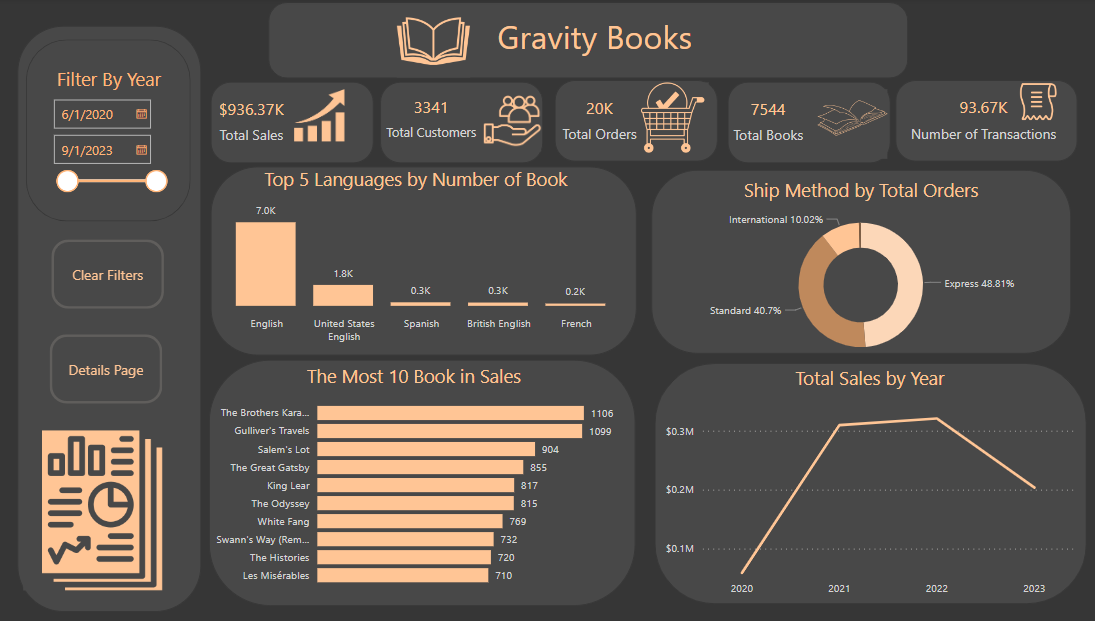

What the dashboard file says about the page in this screenshot:
{"tool":"powerbi","page":{"name":"Main","canvas":[1280,720],"ordinal":0},"visuals":[{"type":"shape","box":[318,6,738,88],"z":0},{"type":"shape","box":[30,34,212,676],"z":0,"group":"g18"},{"type":"shape","box":[40,50,190,210],"z":0,"group":"g8"},{"type":"group","id":"g1","title":"Group 1","box":[648.9,95.5,188,94],"z":0,"group":"g13"},{"type":"shape","box":[648.9,95.5,188,94],"z":0,"group":"g1"},{"type":"group","id":"g2","title":"Group 1","box":[1042,96,210,94],"z":0,"group":"g15"},{"type":"shape","box":[1042,96,210,94],"z":0,"group":"g2"},{"type":"group","id":"g3","title":"Group 2","box":[439.4,97.1,195.2,94],"z":0,"group":"g16"},{"type":"group","id":"g4","title":"Group 1","box":[446.6,97.1,188,94],"z":0,"group":"g3"},{"type":"shape","box":[446.6,97.1,188,94],"z":0,"group":"g4"},{"type":"group","id":"g5","title":"Group 1","box":[848.9,97.7,188,94],"z":0,"group":"g9"},{"type":"shape","box":[848.9,97.7,188,94],"z":0,"group":"g5"},{"type":"group","id":"g6","title":"Group 1","box":[252,98,188,94],"z":0,"group":"g11"},{"type":"shape","box":[252,98,188,94],"z":0,"group":"g6"},{"type":"shape","box":[252.1,196,491.4,218],"z":0,"group":"g12"},{"type":"shape","box":[760,200,484,212],"z":0,"group":"g14"},{"type":"shape","box":[250,418,492,284],"z":0,"group":"g10"},{"type":"group","id":"g7","title":"Group 3","box":[764,422,498,278],"z":0,"group":"g17"},{"type":"shape","box":[764,422,498,278],"z":0,"group":"g7"},{"type":"group","id":"g8","title":"Group 1","box":[40,50,190,210],"z":1000,"group":"g18"},{"type":"slicer","title":"Filter By Year","fields":{"Values":["DimDate.Date"]},"box":[60,82,152,158],"z":1000,"group":"g8"},{"type":"group","id":"g9","title":"Group 2","box":[848.9,97.7,188,94],"z":1000},{"type":"card","fields":{"Values":["MeasuresTable.Total Customers"]},"box":[439.4,99.1,134,78],"z":1000,"group":"g3"},{"type":"card","fields":{"Values":["Count(FactSales.TransactionID_SK)"]},"box":[1054,100,180,80],"z":1000,"group":"g15"},{"type":"card","fields":{"Values":["MeasuresTable.Total Orders"]},"box":[653.1,100.4,96,78],"z":1000,"group":"g13"},{"type":"image","box":[514,106,172,76],"z":1000,"group":"g16"},{"type":"card","fields":{"Values":["MeasuresTable.Total Books"]},"box":[848.9,107.7,94,68],"z":1000,"group":"g9"},{"type":"card","fields":{"Values":["MeasuresTable.Total Sales"]},"box":[244,108,110,68],"z":1000,"group":"g11"},{"type":"clusteredColumnChart","title":"Top 5 Languages by Number of Book ","fields":{"Category":["DimBook.LangName"],"Y":["MeasuresTable.Total Books"]},"box":[226,196,524,212],"z":1000,"group":"g12"},{"type":"donutChart","title":"Ship Method by Total Orders","fields":{"Category":["FactOrder.MethodName"],"Y":["CountNonNull(FactOrder.BK_OrderID)"],"Series":["FactOrder.MehtodCost"]},"box":[770,208,464,222],"z":1000,"group":"g14"},{"type":"group","id":"g10","title":"Group 4","box":[238,418,504,284],"z":1000,"group":"g17"},{"type":"clusteredBarChart","title":"The Most 10 Book in Sales","fields":{"Category":["DimBook.Title"],"Y":["MeasuresTable.BookSummary"]},"box":[238,421.5,496,266.7],"z":1000,"group":"g10"},{"type":"lineChart","title":"Total Sales by Year","fields":{"Y":["MeasuresTable.Total Sales"],"Category":["DimDate.Year"]},"box":[771.8,423.7,480.4,276.3],"z":1000,"group":"g7"},{"type":"group","id":"g11","title":"Group 2","box":[244,98,196,94],"z":2000},{"type":"group","id":"g12","title":"Group 5","box":[226,196,524,218],"z":2000,"group":"g17"},{"type":"actionButton","title":"ButtonClear filter","box":[70,280,130,80],"z":2000,"group":"g18"},{"type":"group","id":"g13","title":"Group 2","box":[648.9,95.5,188,94],"z":3000},{"type":"group","id":"g14","title":"Group 6","box":[760,200,484,230],"z":3000,"group":"g17"},{"type":"image","box":[32,462,198,258],"z":3000,"group":"g18"},{"type":"group","id":"g15","title":"Group 2","box":[1042,96,210,94],"z":4000},{"type":"textbox","box":[344,16,692,66],"z":5000},{"type":"image","box":[836,102,312,90],"z":6000},{"type":"group","id":"g16","title":"Group 7","box":[439.4,97.1,246.6,94],"z":7000},{"type":"image","box":[672,94,226,92],"z":8000},{"type":"image","box":[318,102,118,70],"z":9000},{"type":"image","box":[346,4,326,94],"z":10000},{"type":"image","box":[1134,94,146,54],"z":11000},{"type":"group","id":"g17","title":"Group 4 Charts","box":[226,196,1036,506],"z":12000},{"type":"group","id":"g18","title":"Group right one","box":[30,34,212,686],"z":13000},{"type":"actionButton","title":"ButtonDetails Page button","box":[66,390,130,80],"z":17000}]}

Visuals, with their boxes in screenshot pixels (x1, y1, x2, y2), scaled from the page's 1280x720 canvas onto the 1095x621 screenshot:
shape: rect(272, 5, 903, 81)
shape: rect(26, 29, 207, 612)
shape: rect(34, 43, 197, 224)
"Group 1" group: rect(555, 82, 716, 163)
shape: rect(555, 82, 716, 163)
"Group 1" group: rect(891, 83, 1071, 164)
shape: rect(891, 83, 1071, 164)
"Group 2" group: rect(376, 84, 543, 165)
"Group 1" group: rect(382, 84, 543, 165)
shape: rect(382, 84, 543, 165)
"Group 1" group: rect(726, 84, 887, 165)
shape: rect(726, 84, 887, 165)
"Group 1" group: rect(216, 85, 376, 166)
shape: rect(216, 85, 376, 166)
shape: rect(216, 169, 636, 357)
shape: rect(650, 172, 1064, 355)
shape: rect(214, 361, 635, 605)
"Group 3" group: rect(654, 364, 1080, 604)
shape: rect(654, 364, 1080, 604)
"Group 1" group: rect(34, 43, 197, 224)
"Filter By Year" slicer: rect(51, 71, 181, 207)
"Group 2" group: rect(726, 84, 887, 165)
card - MeasuresTable.Total Customers: rect(376, 85, 491, 153)
card - Count(FactSales.TransactionID_SK): rect(902, 86, 1056, 155)
card - MeasuresTable.Total Orders: rect(559, 87, 641, 154)
image: rect(440, 91, 587, 157)
card - MeasuresTable.Total Books: rect(726, 93, 807, 152)
card - MeasuresTable.Total Sales: rect(209, 93, 303, 152)
"Top 5 Languages by Number of Book " clusteredColumnChart: rect(193, 169, 642, 352)
"Ship Method by Total Orders" donutChart: rect(659, 179, 1056, 371)
"Group 4" group: rect(204, 361, 635, 605)
"The Most 10 Book in Sales" clusteredBarChart: rect(204, 364, 628, 594)
"Total Sales by Year" lineChart: rect(660, 365, 1071, 604)
"Group 2" group: rect(209, 85, 376, 166)
"Group 5" group: rect(193, 169, 642, 357)
"ButtonClear filter" actionButton: rect(60, 242, 171, 310)
"Group 2" group: rect(555, 82, 716, 163)
"Group 6" group: rect(650, 172, 1064, 371)
image: rect(27, 398, 197, 620)
"Group 2" group: rect(891, 83, 1071, 164)
textbox: rect(294, 14, 886, 71)
image: rect(715, 88, 982, 166)
"Group 7" group: rect(376, 84, 587, 165)
image: rect(575, 81, 768, 160)
image: rect(272, 88, 373, 148)
image: rect(296, 3, 575, 85)
image: rect(970, 81, 1094, 128)
"Group 4 Charts" group: rect(193, 169, 1080, 605)
"Group right one" group: rect(26, 29, 207, 620)
"ButtonDetails Page button" actionButton: rect(56, 336, 168, 405)
